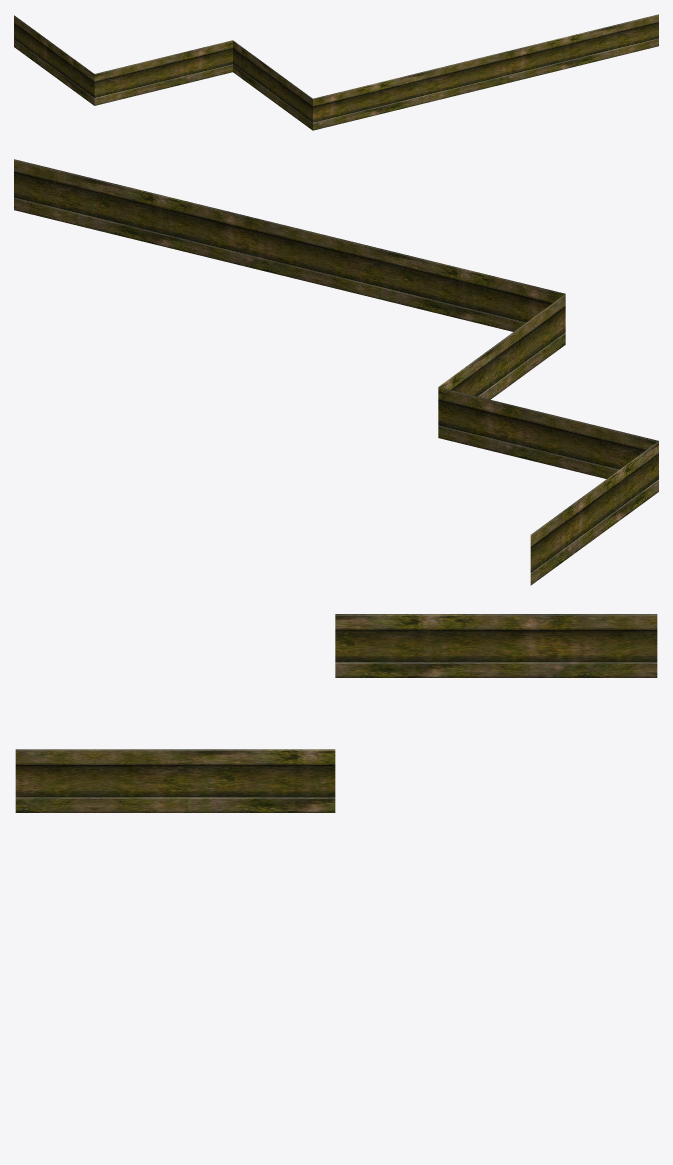
The model's file is OVERHILL_A_01_LINE405.fbx.
The picture shows the model from 3 angles, top to bottom: view 1: azimuth 30°, elevation 25°; view 2: azimuth 150°, elevation 25°; view 3: azimuth 270°, elevation 25°; orthographic projection. The views are drawn at different scales.
Parts seen in each view (by area): view 1: OVERHILL_A_01_LINE405; view 2: OVERHILL_A_01_LINE405; view 3: OVERHILL_A_01_LINE405.
Boxes of the visible parts, x1=… form: OVERHILL_A_01_LINE405: x1=14, y1=14, x2=658, y2=130; OVERHILL_A_01_LINE405: x1=14, y1=159, x2=658, y2=585; OVERHILL_A_01_LINE405: x1=15, y1=614, x2=657, y2=812.
Size of the model in its own units: 70000 by 4416 by 40148.
1 material, 1 textured.
